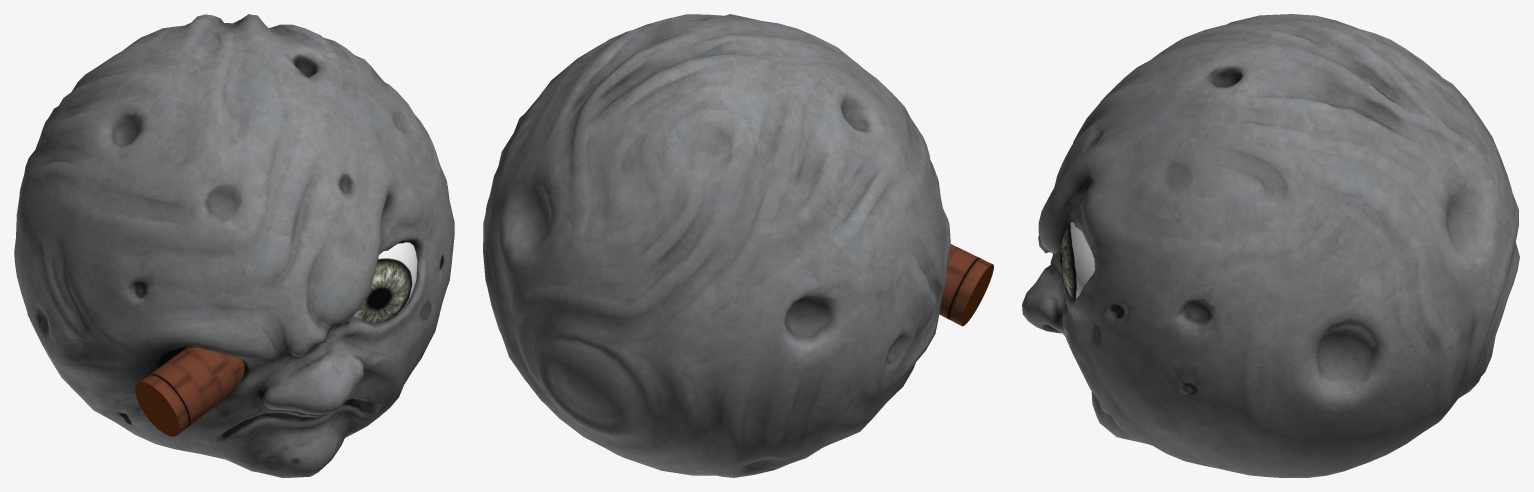
The model's file is melies_moon.glb.
3 views of the same model, side by side, from view 1: azimuth 30°, elevation 25°; view 2: azimuth 150°, elevation 25°; view 3: azimuth 270°, elevation 25° (orthographic). The views are drawn at different scales.
Visible parts, largest first — view 1: Group47082, ZBrush_defualt_group.002, Group17809.002; view 2: Group47082, ZBrush_defualt_group.002; view 3: Group47082, Group17809.002.
Boxes of the visible parts, box(x1,y1,x2,y2) form: Group47082: box(14, 14, 454, 477); ZBrush_defualt_group.002: box(135, 347, 244, 436); Group17809.002: box(353, 242, 417, 323); Group47082: box(483, 14, 950, 477); ZBrush_defualt_group.002: box(939, 244, 993, 326); Group47082: box(1022, 14, 1519, 477); Group17809.002: box(1060, 222, 1094, 299).
Size of the model in its own units: 203 by 200 by 216.
Materials: 3 (3 with a texture image).
